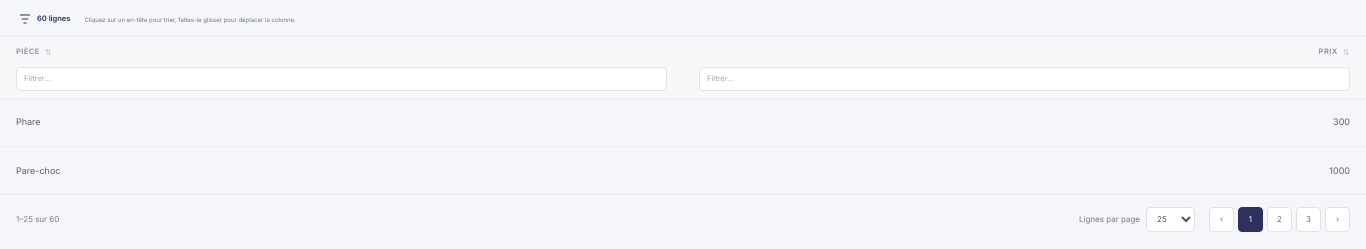
tableau interactif (paginé par le serveur) › pagine : pages, taille de page et lignes affichées
Expected: the text "1–25 sur 60" is shown, x1=16 y1=213 x2=59 y2=225
Click the button named "Page suivante" at [1338, 219], box x1=1325 y1=206 x2=1350 y2=232
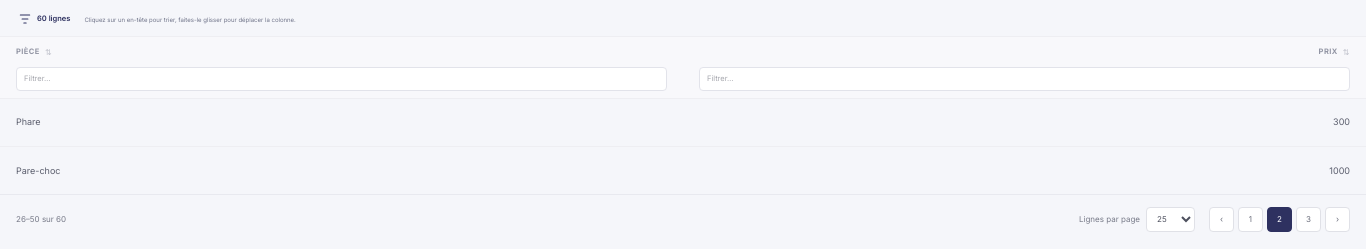
Now the text "26–50 sur 60" is shown, box x1=16 y1=213 x2=66 y2=225
Select "50" in the dropdown labelled "Lignes par page" at [1170, 219], box x1=1146 y1=206 x2=1195 y2=232
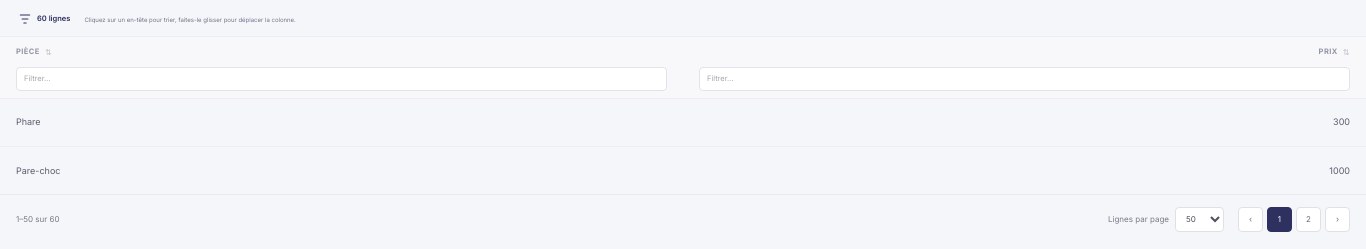
Now the text "1–50 sur 60" is shown, box x1=16 y1=213 x2=60 y2=225
